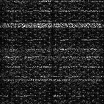lte: (1, 22, 104, 28), (1, 56, 104, 59), (1, 48, 104, 51), (1, 78, 104, 81), (1, 65, 104, 68)
